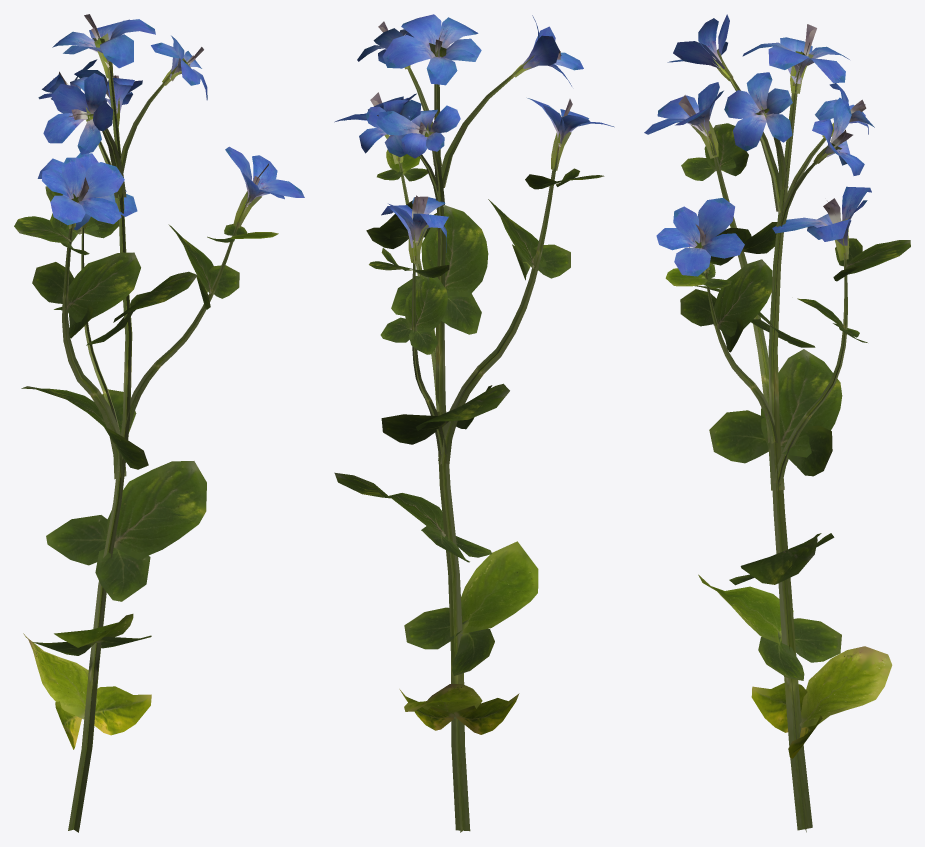
Rendered from Periwinkle_baby_short_deepblue.glb.
The picture shows the model from 3 angles, left to right: view 1: azimuth 30°, elevation 25°; view 2: azimuth 150°, elevation 25°; view 3: azimuth 270°, elevation 25°; orthographic projection.
Visible parts, largest first — view 1: _b868_Var1_LOD1; view 2: _b868_Var1_LOD1; view 3: _b868_Var1_LOD1.
Boxes of the visible parts, x1=… form: _b868_Var1_LOD1: x1=14, y1=14, x2=304, y2=832; _b868_Var1_LOD1: x1=334, y1=14, x2=614, y2=832; _b868_Var1_LOD1: x1=644, y1=14, x2=910, y2=832.
Bounding box in the file's own units: 0.5832 × 1.66 × 0.4917.
1 material, 1 textured.
